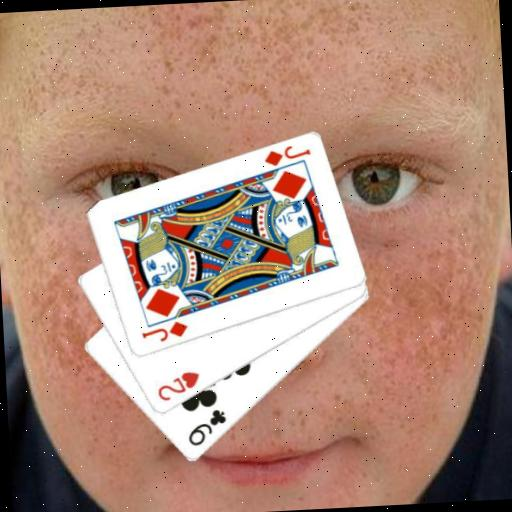2H: (153, 368, 202, 404)
9C: (184, 406, 230, 449)
JD: (261, 142, 313, 170), (138, 318, 190, 345)
